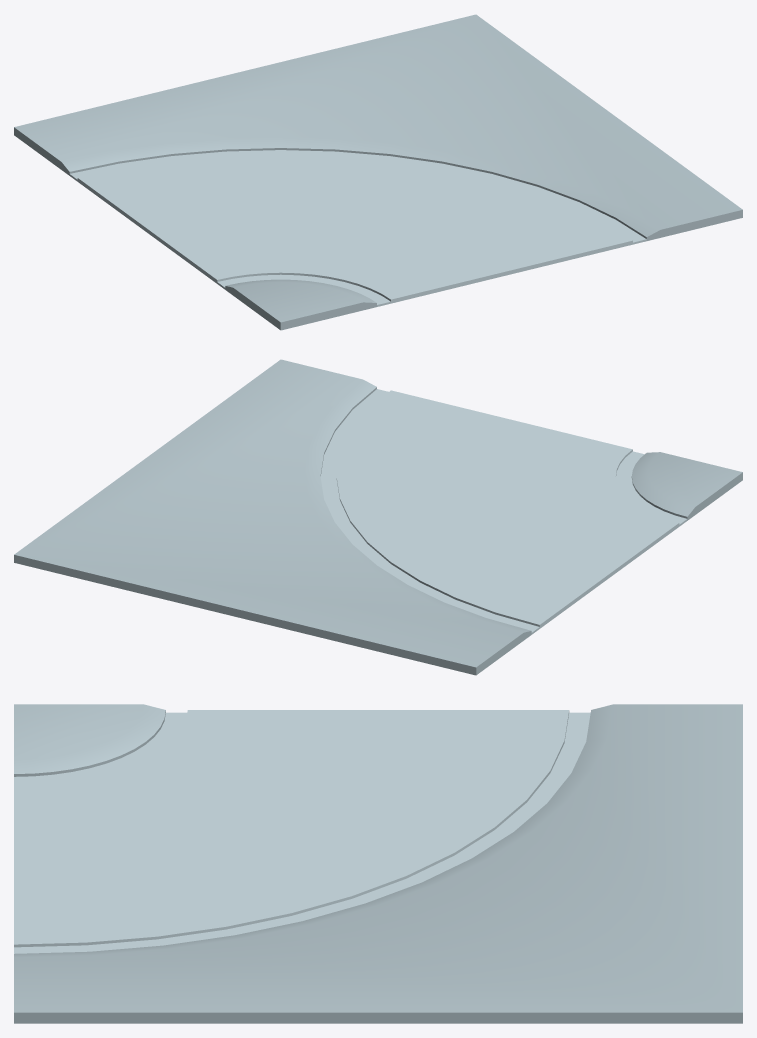
File: roadBend.glb
3 views of the same model, one above another, from view 1: azimuth 30°, elevation 25°; view 2: azimuth 150°, elevation 25°; view 3: azimuth 270°, elevation 25° (orthographic). The views are drawn at different scales.
Visible parts, largest first — view 1: roadBend; view 2: roadBend; view 3: roadBend.
Part boxes in pixels (<box>): roadBend: <box>14,14,742,330</box>; roadBend: <box>14,359,742,675</box>; roadBend: <box>14,704,742,1023</box>.
Size of the model in its own units: 3 by 0.05 by 3.
